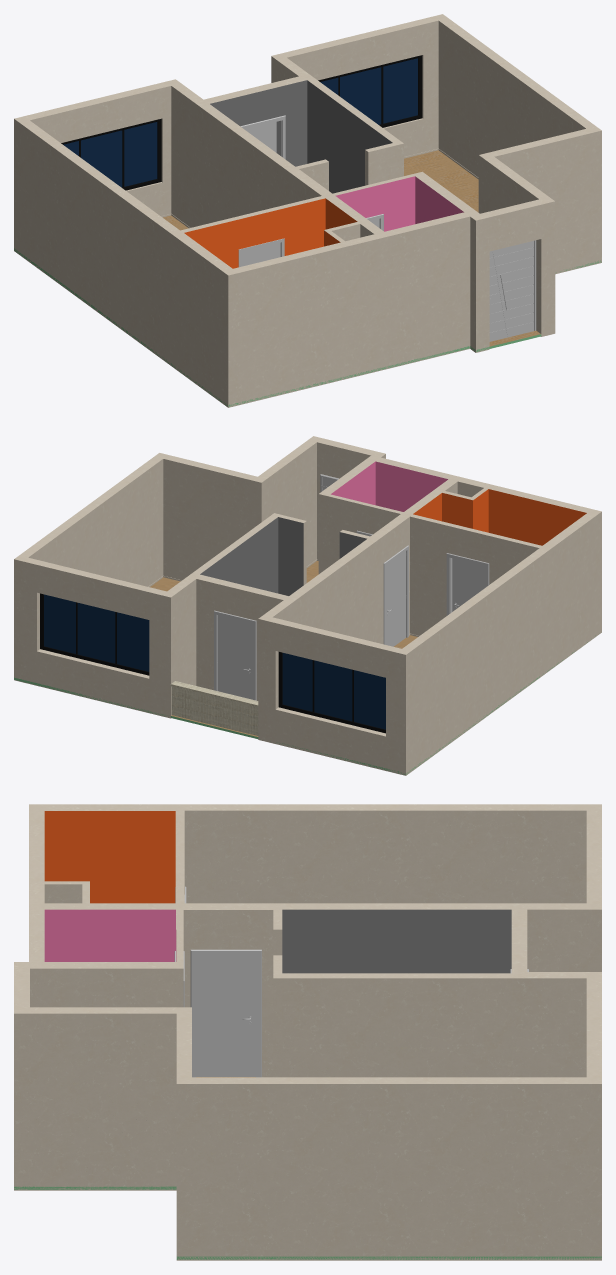
Rendered from Flat01_T.fbx.
3 renders of one model, top to bottom at view 1: azimuth 30°, elevation 25°; view 2: azimuth 150°, elevation 25°; view 3: azimuth 270°, elevation 25°, orthographic. The views are drawn at different scales.
Parts seen in each view (by area): view 1: Line004, Object34580, door_3_frame_door_3_0, Shape002, door_door_004, door_frame_door_001, door_door_001; view 2: Line004, Object34580, door_door_001, door_door_005, Shape002, door_door_004, door_frame_door_001, door_frame_door_005, door_frame_door_004; view 3: Line004, door_door_005, Shape002, door_frame_door_005.
Part boxes in pixels (bbox=[...]): Line004: bbox=[14, 14, 601, 407]; Object34580: bbox=[61, 55, 422, 190]; door_3_frame_door_3_0: bbox=[489, 240, 536, 341]; Shape002: bbox=[14, 150, 601, 406]; door_door_004: bbox=[241, 242, 280, 266]; door_frame_door_001: bbox=[240, 115, 285, 159]; door_door_001: bbox=[245, 122, 276, 152]; Line004: bbox=[14, 436, 601, 775]; Object34580: bbox=[40, 593, 385, 733]; door_door_001: bbox=[217, 615, 252, 699]; door_door_005: bbox=[386, 551, 406, 646]; Shape002: bbox=[14, 561, 595, 774]; door_door_004: bbox=[452, 558, 485, 611]; door_frame_door_001: bbox=[214, 610, 256, 700]; door_frame_door_005: bbox=[383, 545, 408, 644]; door_frame_door_004: bbox=[446, 553, 489, 615]; Line004: bbox=[14, 804, 601, 1260]; door_door_005: bbox=[196, 955, 255, 1076]; Shape002: bbox=[14, 1077, 601, 1259]; door_frame_door_005: bbox=[190, 949, 261, 1077].
Size of the model in its own units: 963 by 284 by 856.
